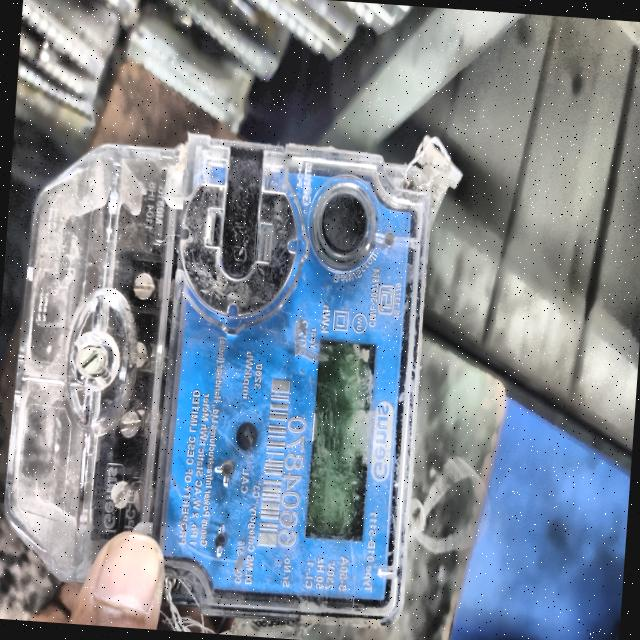Digital: (0, 130, 437, 616)
Reading: (305, 338, 374, 540)
Serial No.: (276, 412, 307, 549)
